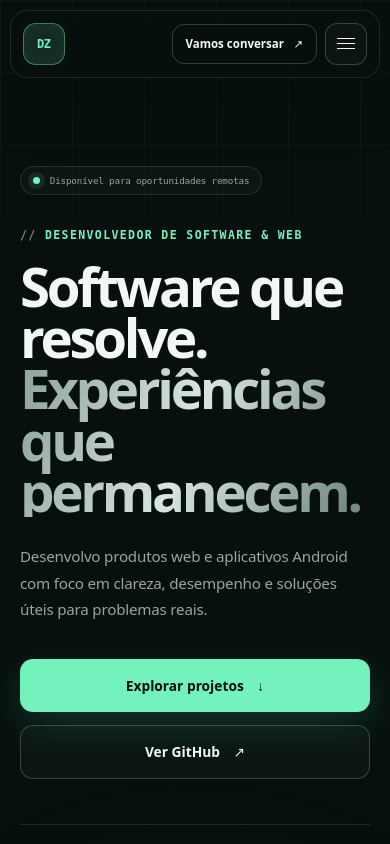
HomePage › abre e fecha o menu de navegação mobile
This screenshot has width=390, height=844.
Click the button named "Abrir menu". click: {"x": 346, "y": 44}
box: [325, 23, 367, 65]
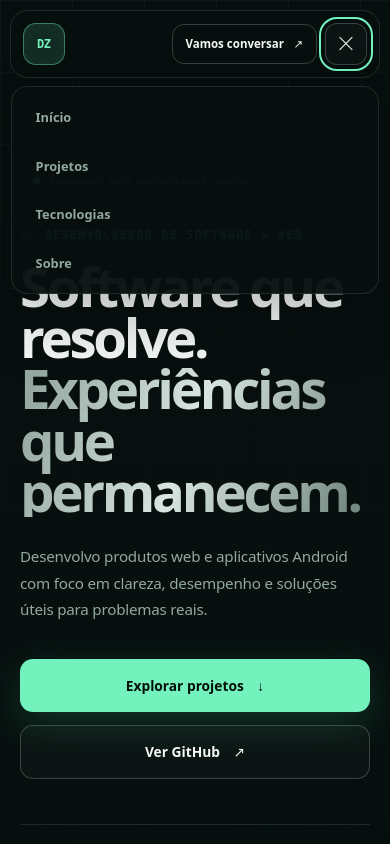
expect the button named "Fechar menu" is expanded: met
Click the button named "Fechar menu". click: {"x": 346, "y": 44}
box: [325, 23, 367, 65]
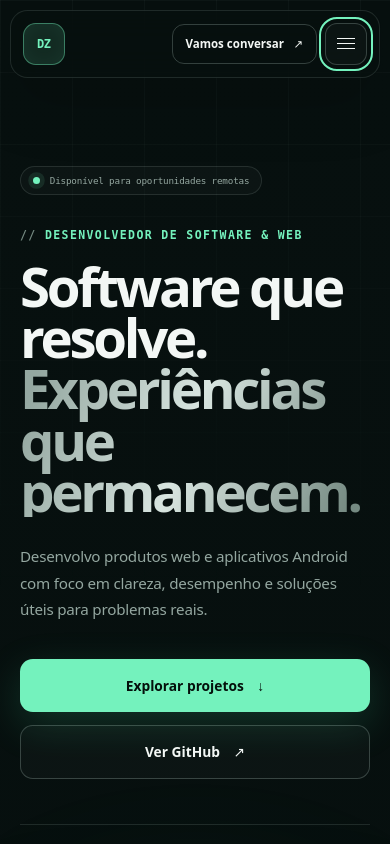
expect the button named "Abrir menu" is collapsed: met, box [325, 23, 367, 65]
